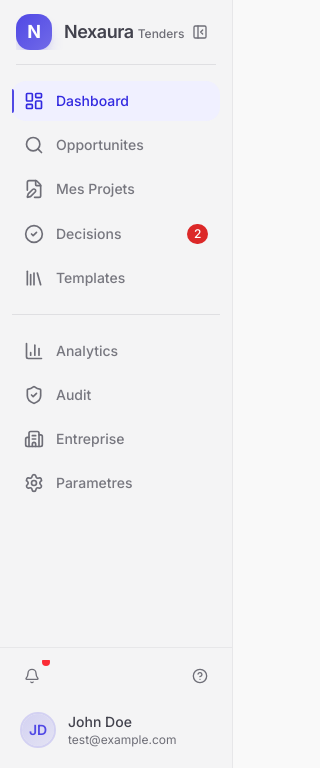
Test case: Navigation Integration Tests › Responsive Mobile Menu › doit permettre de réduire la sidebar sur mobile
Click the button named "Reduire la barre laterale" at (200, 32), box x1=184 y1=16 x2=216 y2=48
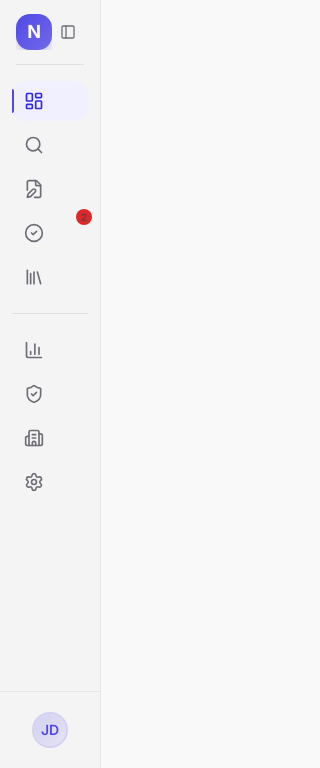
Check: the button named "Developper la barre laterale" is shown, box x1=52 y1=16 x2=84 y2=48
